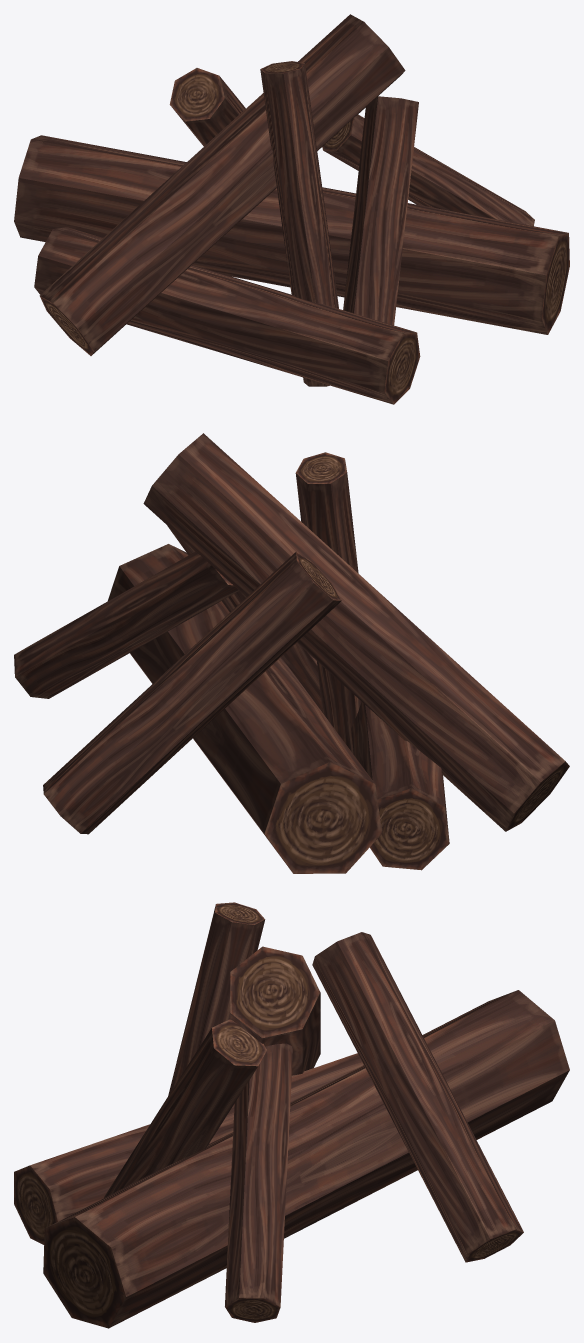
The model's file is Bonfire.fbx.
3 views of the same model, one above another, from view 1: azimuth 30°, elevation 25°; view 2: azimuth 150°, elevation 25°; view 3: azimuth 270°, elevation 25° (orthographic). The views are drawn at different scales.
Parts seen in each view (by area): view 1: Bonfire; view 2: Bonfire; view 3: Bonfire.
Part boxes in pixels (box(x1,y1,x2,y2)): Bonfire: box(14, 14, 569, 404); Bonfire: box(14, 433, 569, 873); Bonfire: box(14, 902, 569, 1328).
Bounding box in the file's own units: 67.65 × 42.25 × 60.39.
